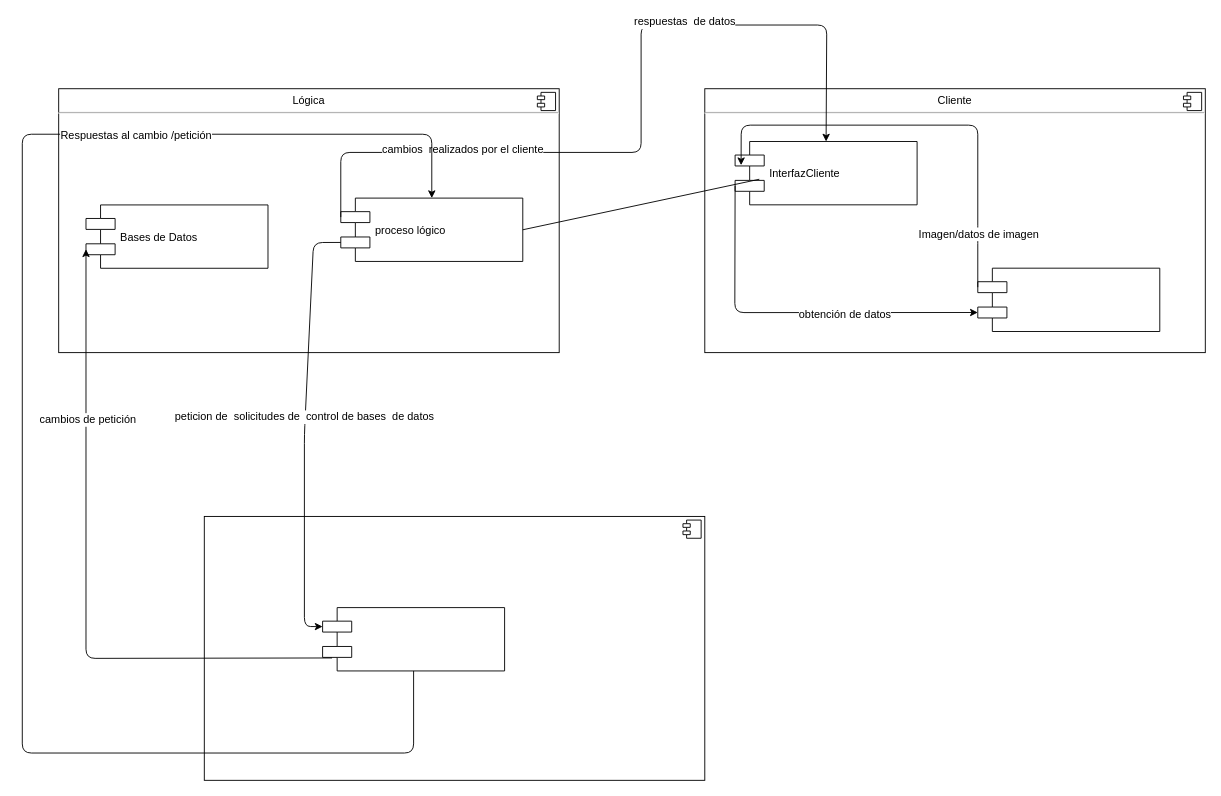
Image size: 1221x796. Some labels were removed from this diagram. The shapes that lost their labels are listed below. From the top down, each one's centre as x and y in pixels, then its label:
At pixel 1068 299: "Usuario".
At pixel 413 639: "Gestor de Bases de Datos".
